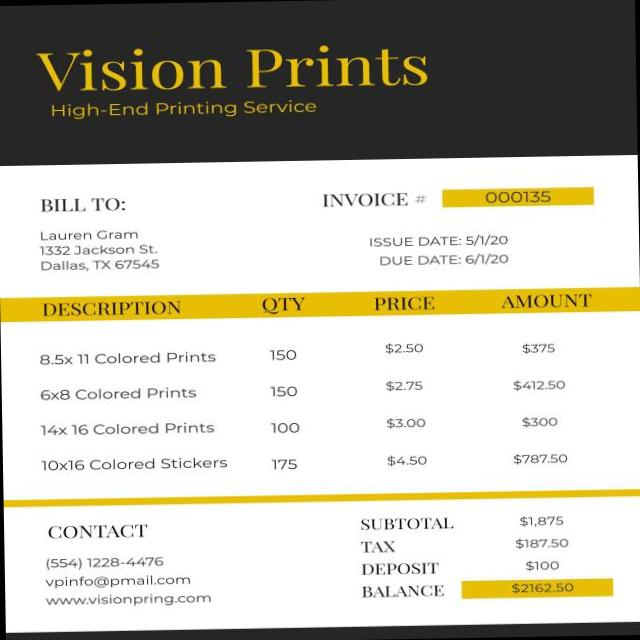customer_address: (39, 244, 163, 278)
customer_name: (38, 227, 153, 243)
due_date: (461, 250, 514, 266)
invoice_date: (464, 228, 516, 246)
invoice_number: (482, 190, 553, 205)
invoice_subtotal: (510, 510, 570, 530)
invoice_total: (504, 578, 578, 598)
item_description: (28, 342, 234, 482)
item_quantity: (260, 340, 308, 477)
item_total_price: (502, 334, 580, 474)
item_unit_price: (375, 333, 436, 478)
supplier_name: (31, 35, 434, 120)
tax_amount: (506, 534, 574, 552)
